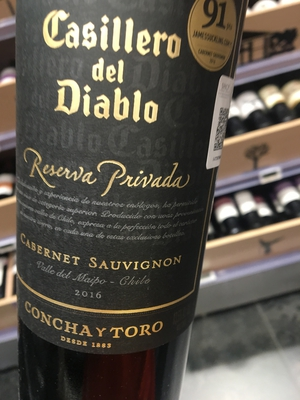casillero del diablo reserva privada cabernet sauvignon: (14, 2, 249, 386)
